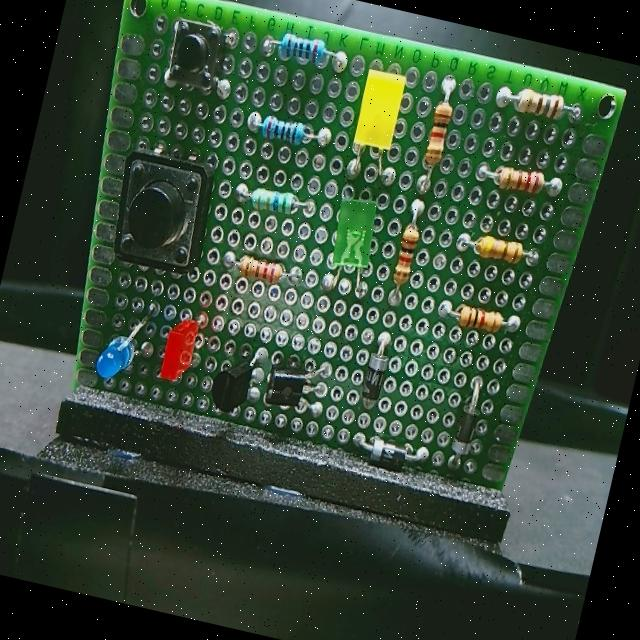diode: (438, 380, 488, 476), (355, 328, 400, 414), (354, 425, 424, 479)
led: (338, 66, 411, 186), (319, 195, 385, 298), (90, 292, 160, 388), (158, 306, 213, 388)
resistor: (488, 76, 585, 134), (479, 150, 567, 210), (244, 103, 328, 161), (439, 291, 525, 347), (416, 78, 462, 182), (382, 208, 426, 312), (455, 226, 546, 276), (228, 175, 312, 228), (222, 240, 302, 293), (266, 26, 344, 72)
switch: (100, 142, 224, 284), (158, 12, 235, 98)
transistor: (252, 348, 332, 432), (202, 334, 268, 427)
